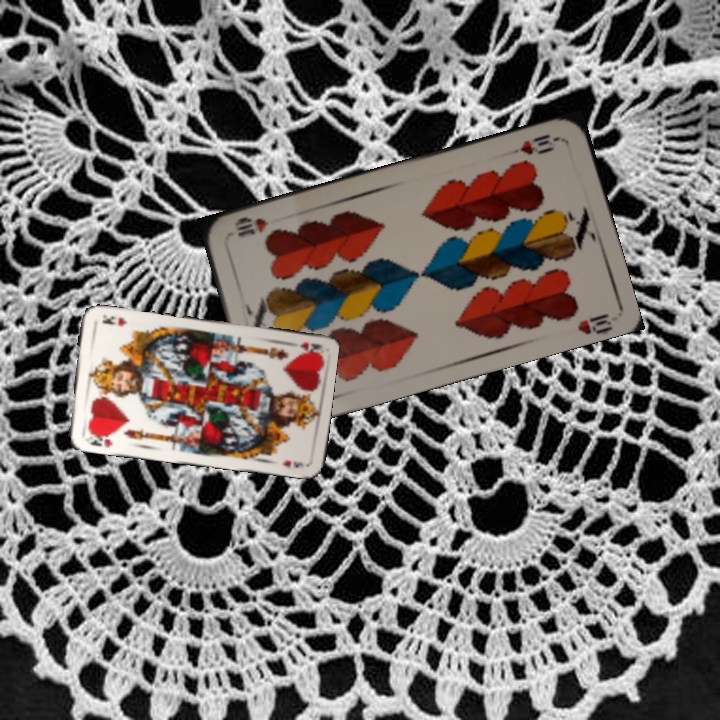H10: (516, 130, 562, 158)
HK: (84, 428, 117, 450), (296, 338, 323, 354)
